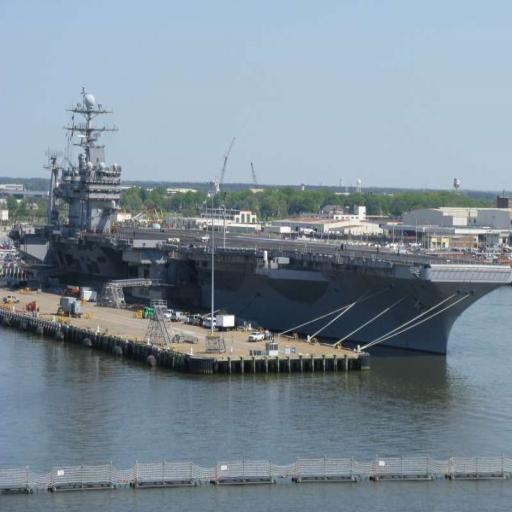Portanaves: (10, 68, 510, 368)
